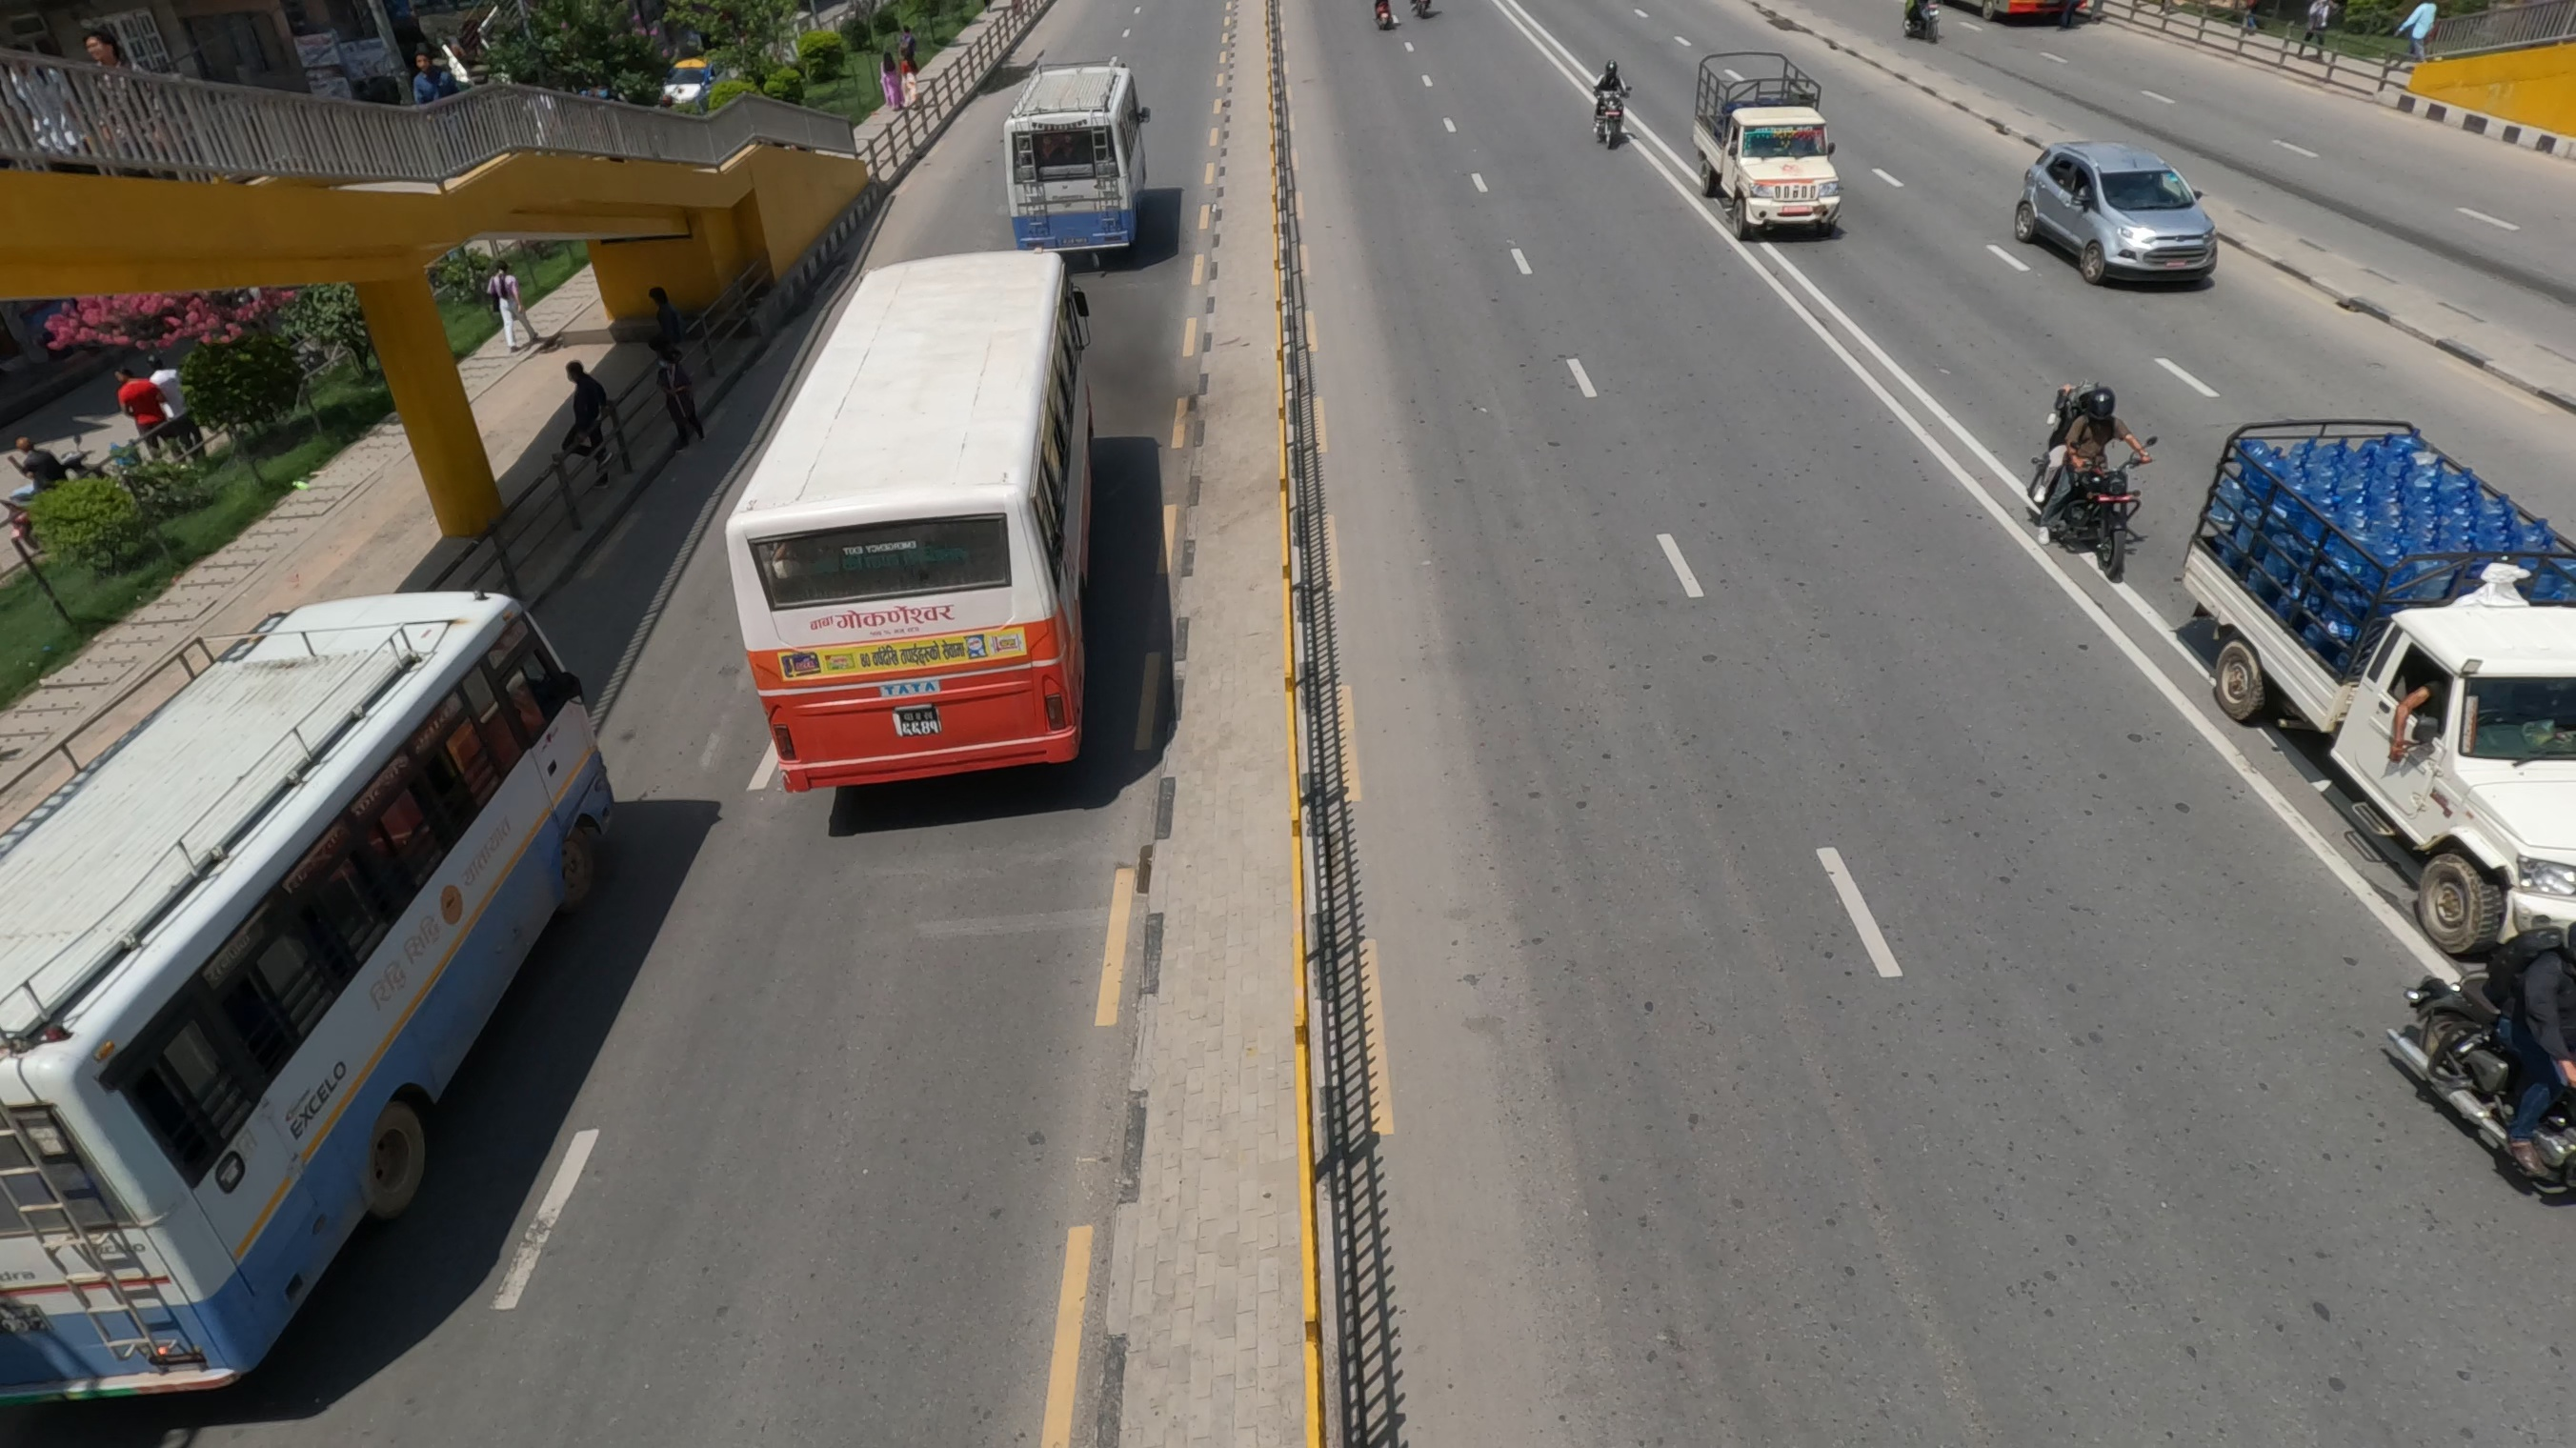normal: (2, 1060, 234, 1381), (761, 524, 1077, 747)
smoky: (1012, 122, 1201, 262)
